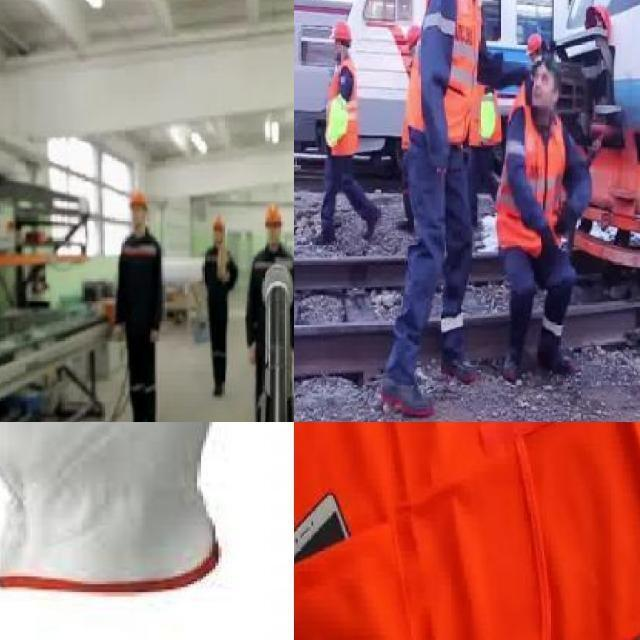apron: (0, 422, 271, 529), (542, 230, 564, 264)
